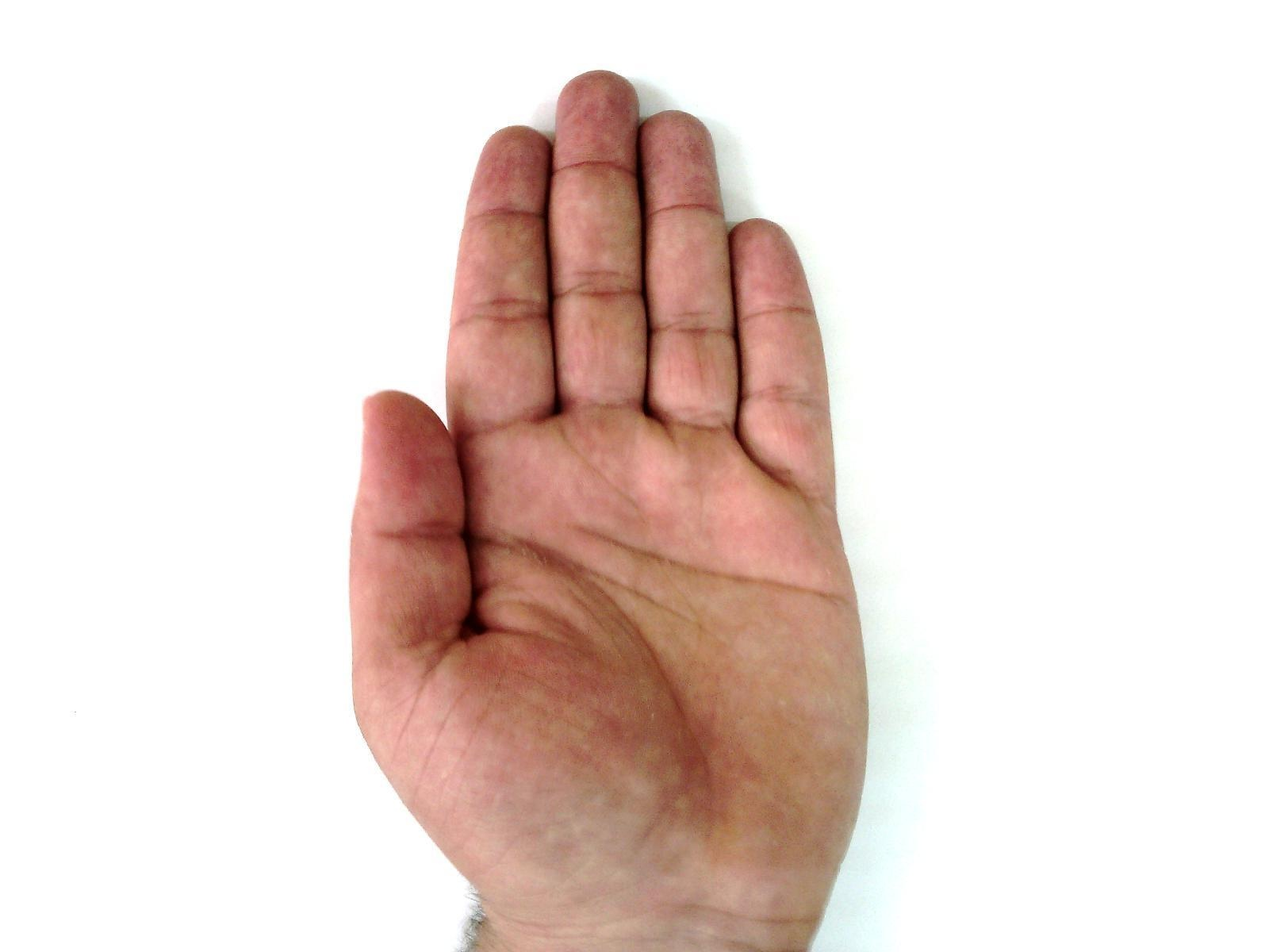open_palm: (345, 69, 874, 950)
